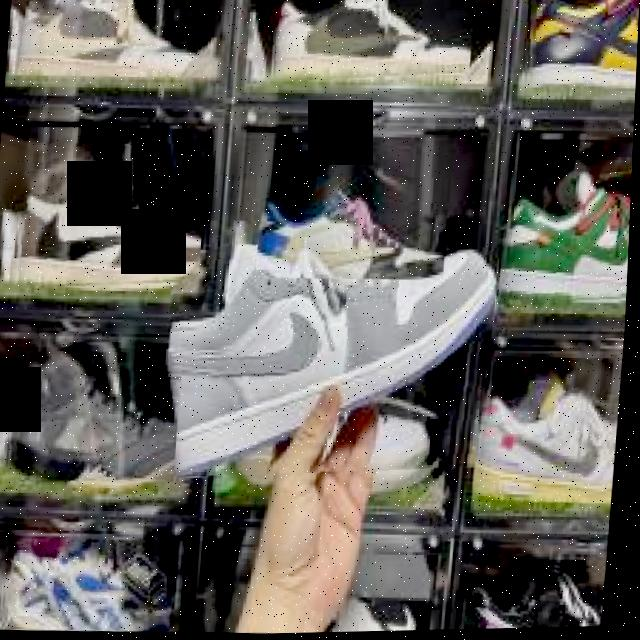shoe: (170, 245, 499, 478), (18, 143, 203, 287), (12, 353, 181, 482), (259, 187, 447, 281), (477, 382, 619, 506), (501, 174, 633, 303), (274, 0, 471, 79), (7, 544, 177, 631), (15, 0, 204, 78), (524, 0, 640, 98), (475, 566, 608, 631)
